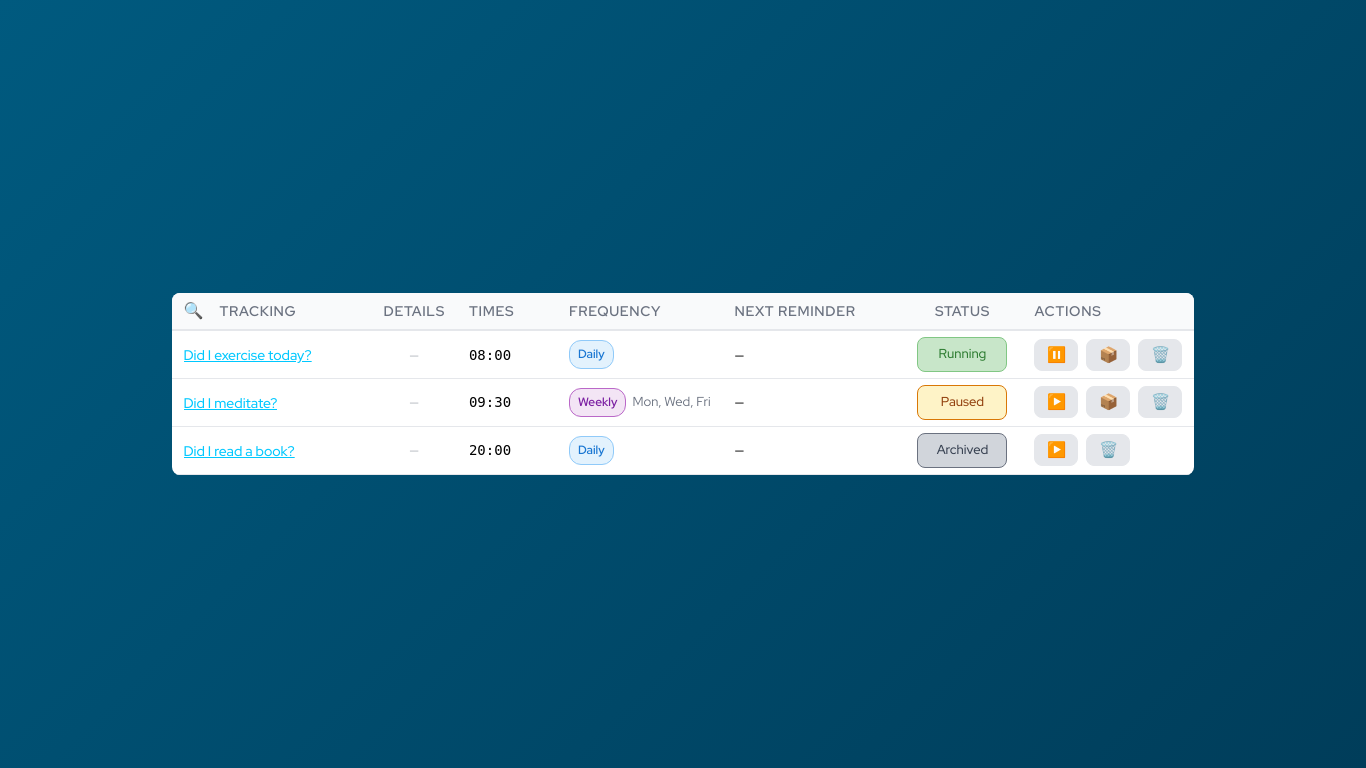
Scenario: TrackingsList › Filtering › should filter by tracking question text
The image size is (1366, 768).
Step 1. Click the button named "show filters" → (194,311), box 184,299 -> 204,323
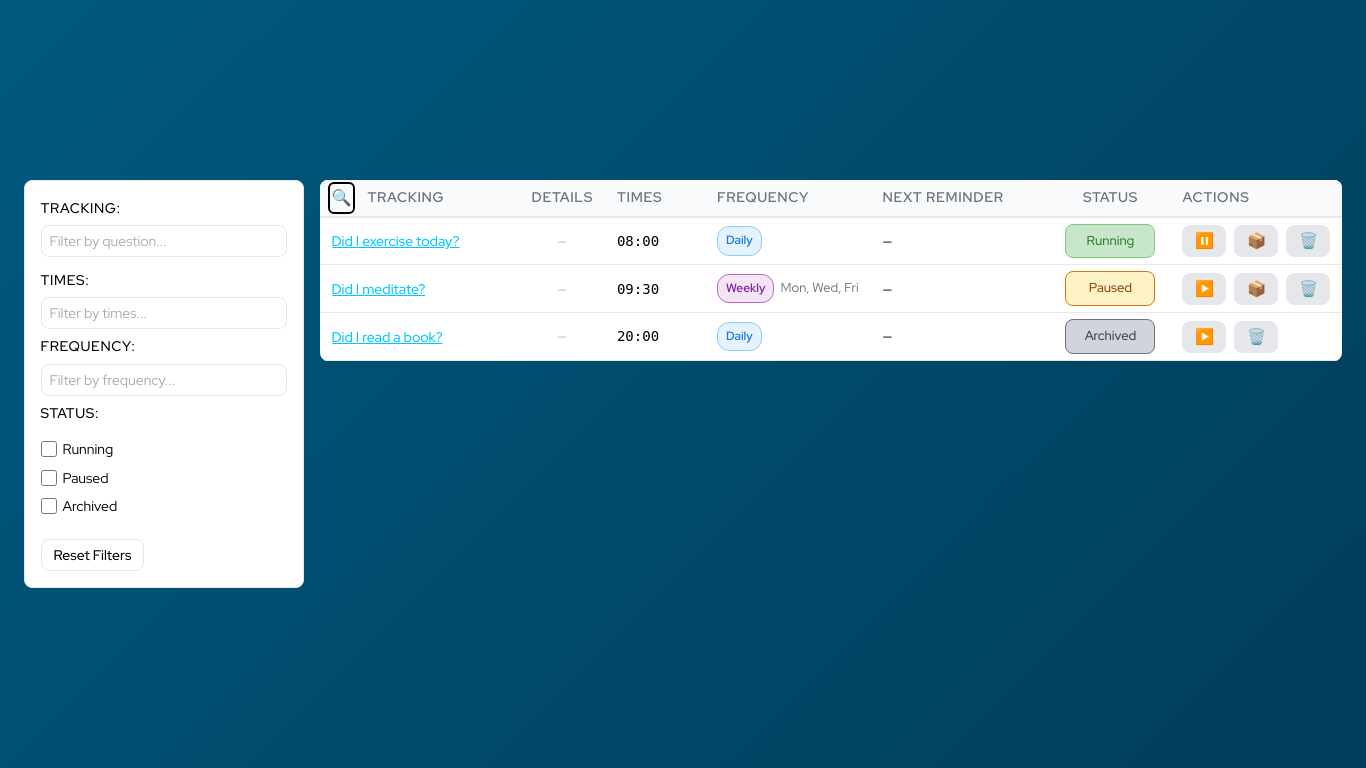
Step 2. Type "exercise" into the field named "Filter by tracking" → (164,241), box 40,225 -> 286,257
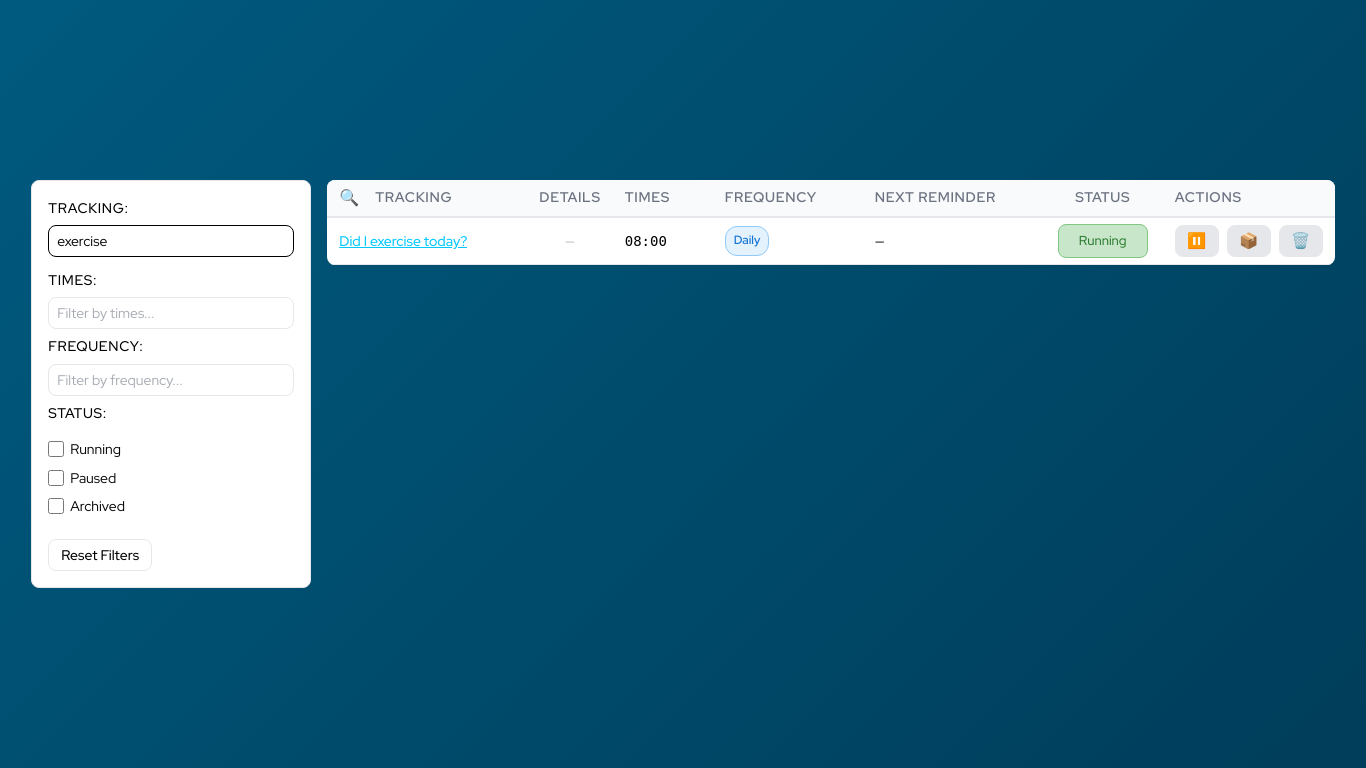
Check: the button "Did I exercise today?" is shown, box 339,230 -> 468,253
Check: the button "Did I meditate?" is gone
Check: the button "Did I read a book?" is gone
